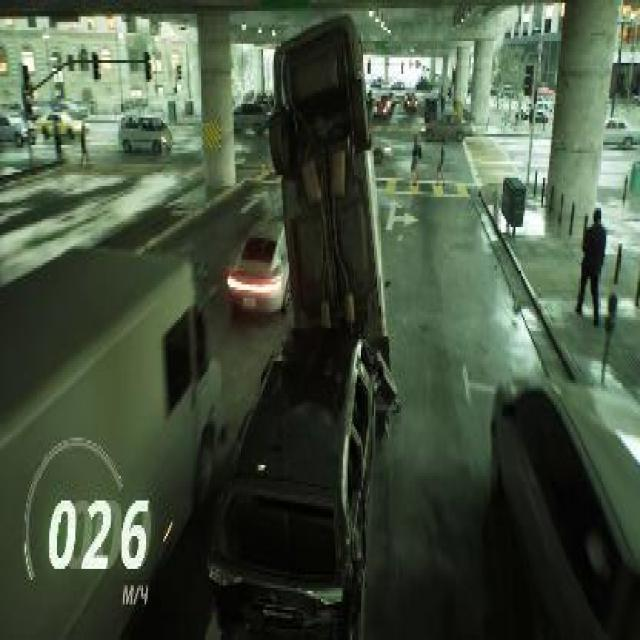accident: (206, 2, 398, 640)
